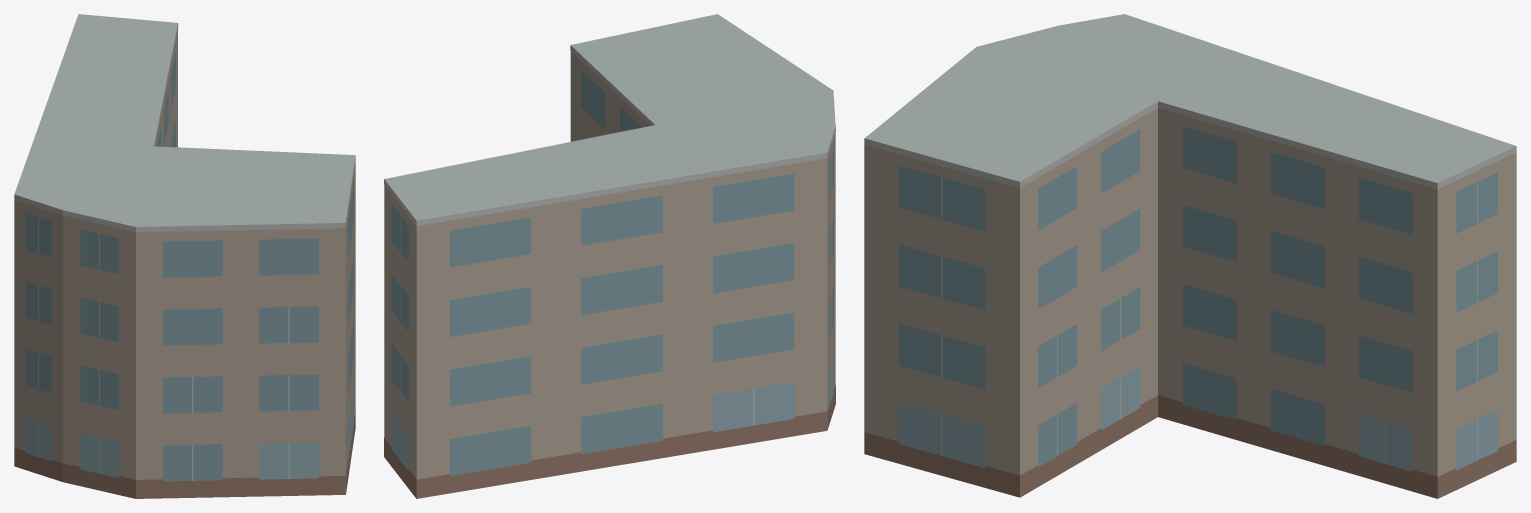
The model's file is survey-upis-33045654.glb.
The picture shows the model from 3 angles, left to right: view 1: azimuth 30°, elevation 25°; view 2: azimuth 150°, elevation 25°; view 3: azimuth 270°, elevation 25°; orthographic projection. The views are drawn at different scales.
Parts seen in each view (by area): view 1: survey-upis-33045654.tmp; view 2: survey-upis-33045654.tmp; view 3: survey-upis-33045654.tmp.
Boxes of the visible parts, box(x1,y1,x2,y2) form: survey-upis-33045654.tmp: box(14, 14, 355, 498); survey-upis-33045654.tmp: box(384, 14, 835, 498); survey-upis-33045654.tmp: box(864, 14, 1516, 498).
Size of the model in its own units: 14.14 by 12.3 by 23.04.
